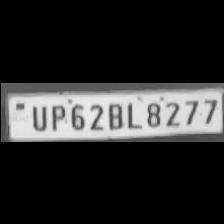2: (161, 98, 181, 127), (86, 100, 104, 130)
6: (65, 100, 84, 128)
7: (198, 95, 218, 123), (180, 97, 198, 125)
8: (142, 99, 162, 127)
B: (104, 100, 124, 128)
L: (124, 98, 140, 128)
P: (46, 100, 64, 130)
U: (27, 102, 47, 130)
